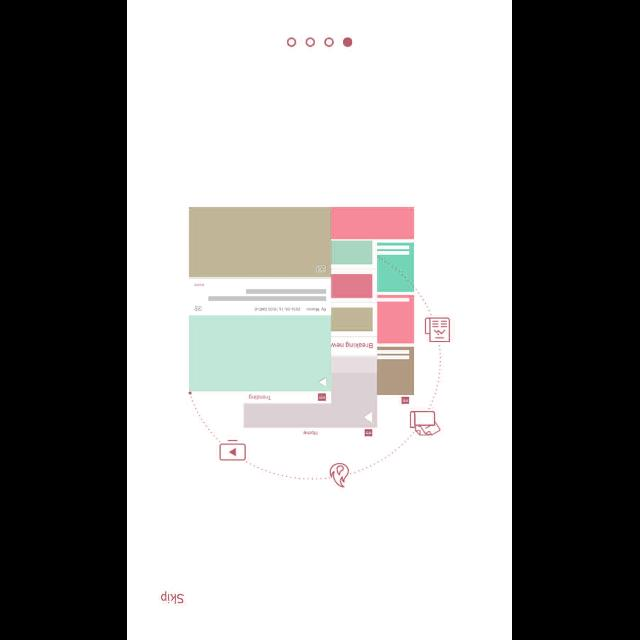image: (189, 207, 451, 487)
pageindicator: (287, 37, 353, 47)
text: (162, 590, 184, 604)
